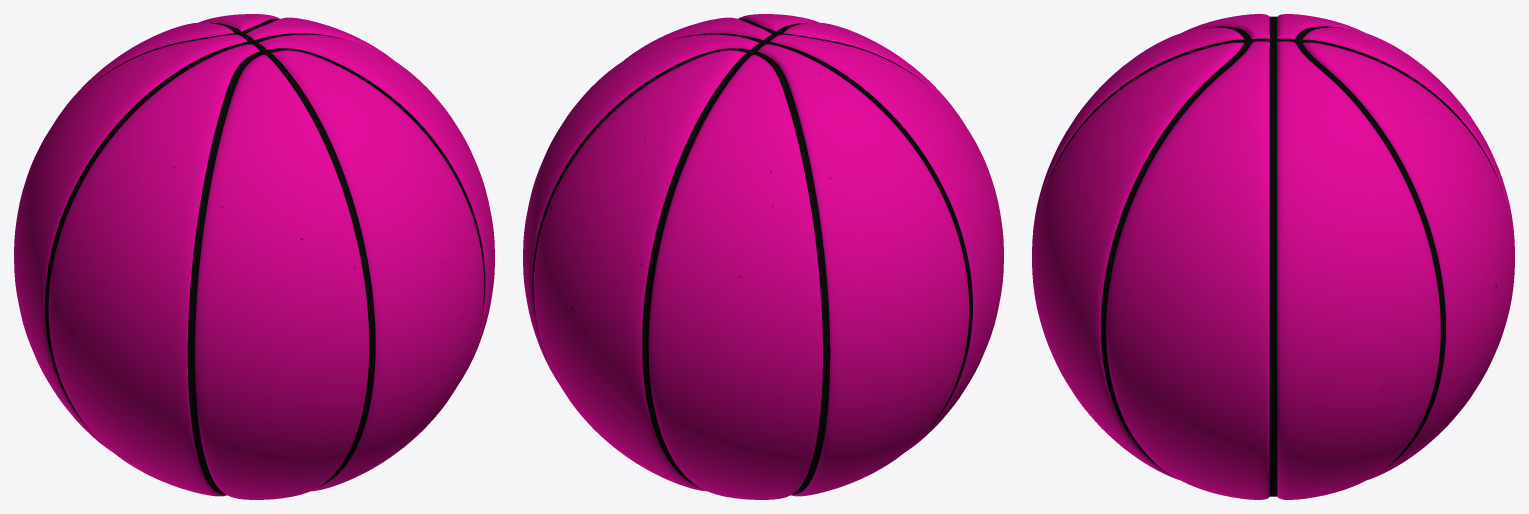
File: item7.fbx
3 renders of one model, left to right at view 1: azimuth 30°, elevation 25°; view 2: azimuth 150°, elevation 25°; view 3: azimuth 270°, elevation 25°, orthographic.
Parts seen in each view (by area): view 1: Item0.013; view 2: Item0.013; view 3: Item0.013.
Part boxes in pixels (x1=…): Item0.013: x1=14, y1=14, x2=494, y2=499; Item0.013: x1=523, y1=14, x2=1003, y2=499; Item0.013: x1=1032, y1=14, x2=1514, y2=499.
Bounding box in the file's own units: 193 × 194 × 193.
1 material, 1 textured.
